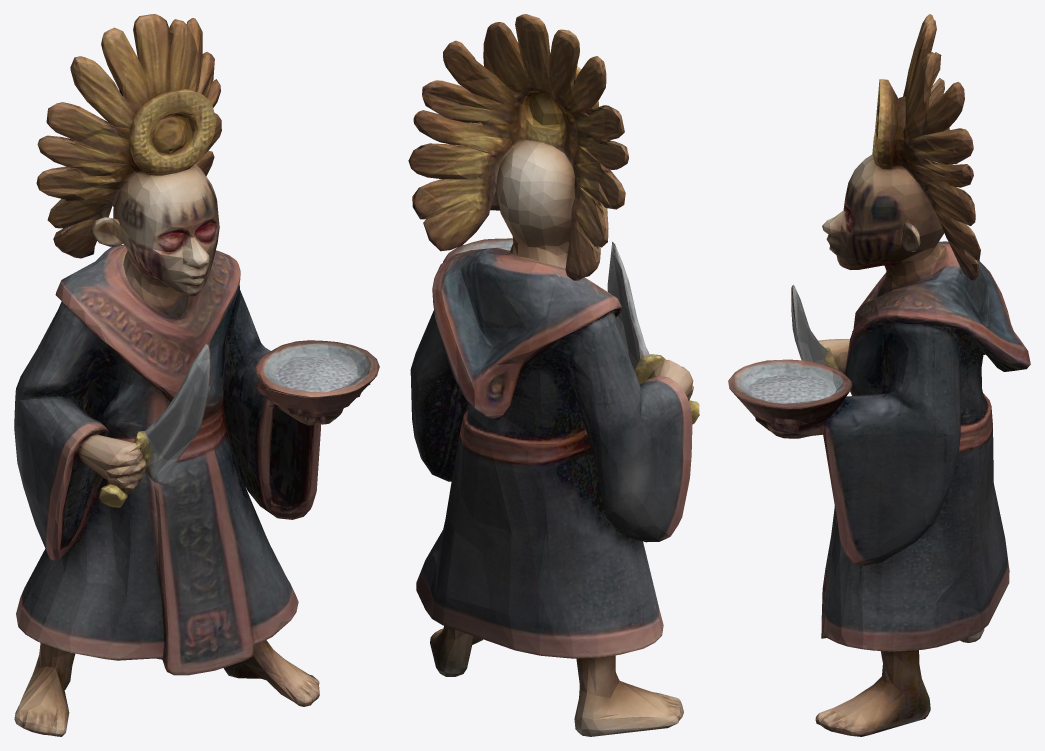
File: pyramidAcolyte.glb
The picture shows the model from 3 angles, left to right: view 1: azimuth 30°, elevation 25°; view 2: azimuth 150°, elevation 25°; view 3: azimuth 270°, elevation 25°; orthographic projection. The views are drawn at different scales.
Parts seen in each view (by area): view 1: world; view 2: world; view 3: world.
Part boxes in pixels (x1,y1,x2,y2): world: (14, 14, 379, 736); world: (408, 14, 699, 736); world: (728, 14, 1030, 736).
Size of the model in its own units: 0.4498 by 1 by 0.4226.
Materials: 1 (1 with a texture image).
